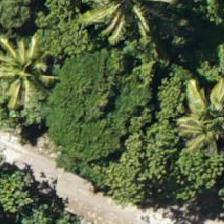coconut_tree: (0, 26, 56, 116), (74, 0, 164, 48)
